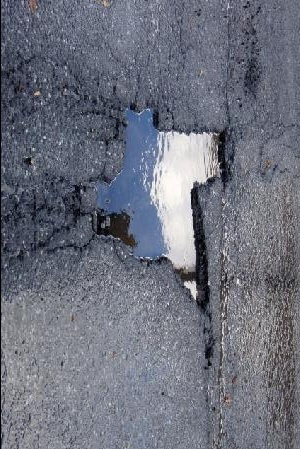pothole: (85, 100, 235, 314)
